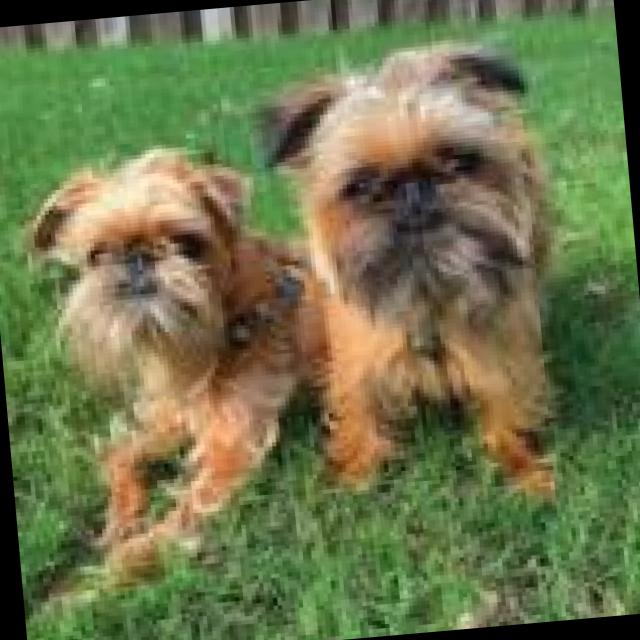Perro: (237, 20, 580, 518), (0, 131, 347, 618)
